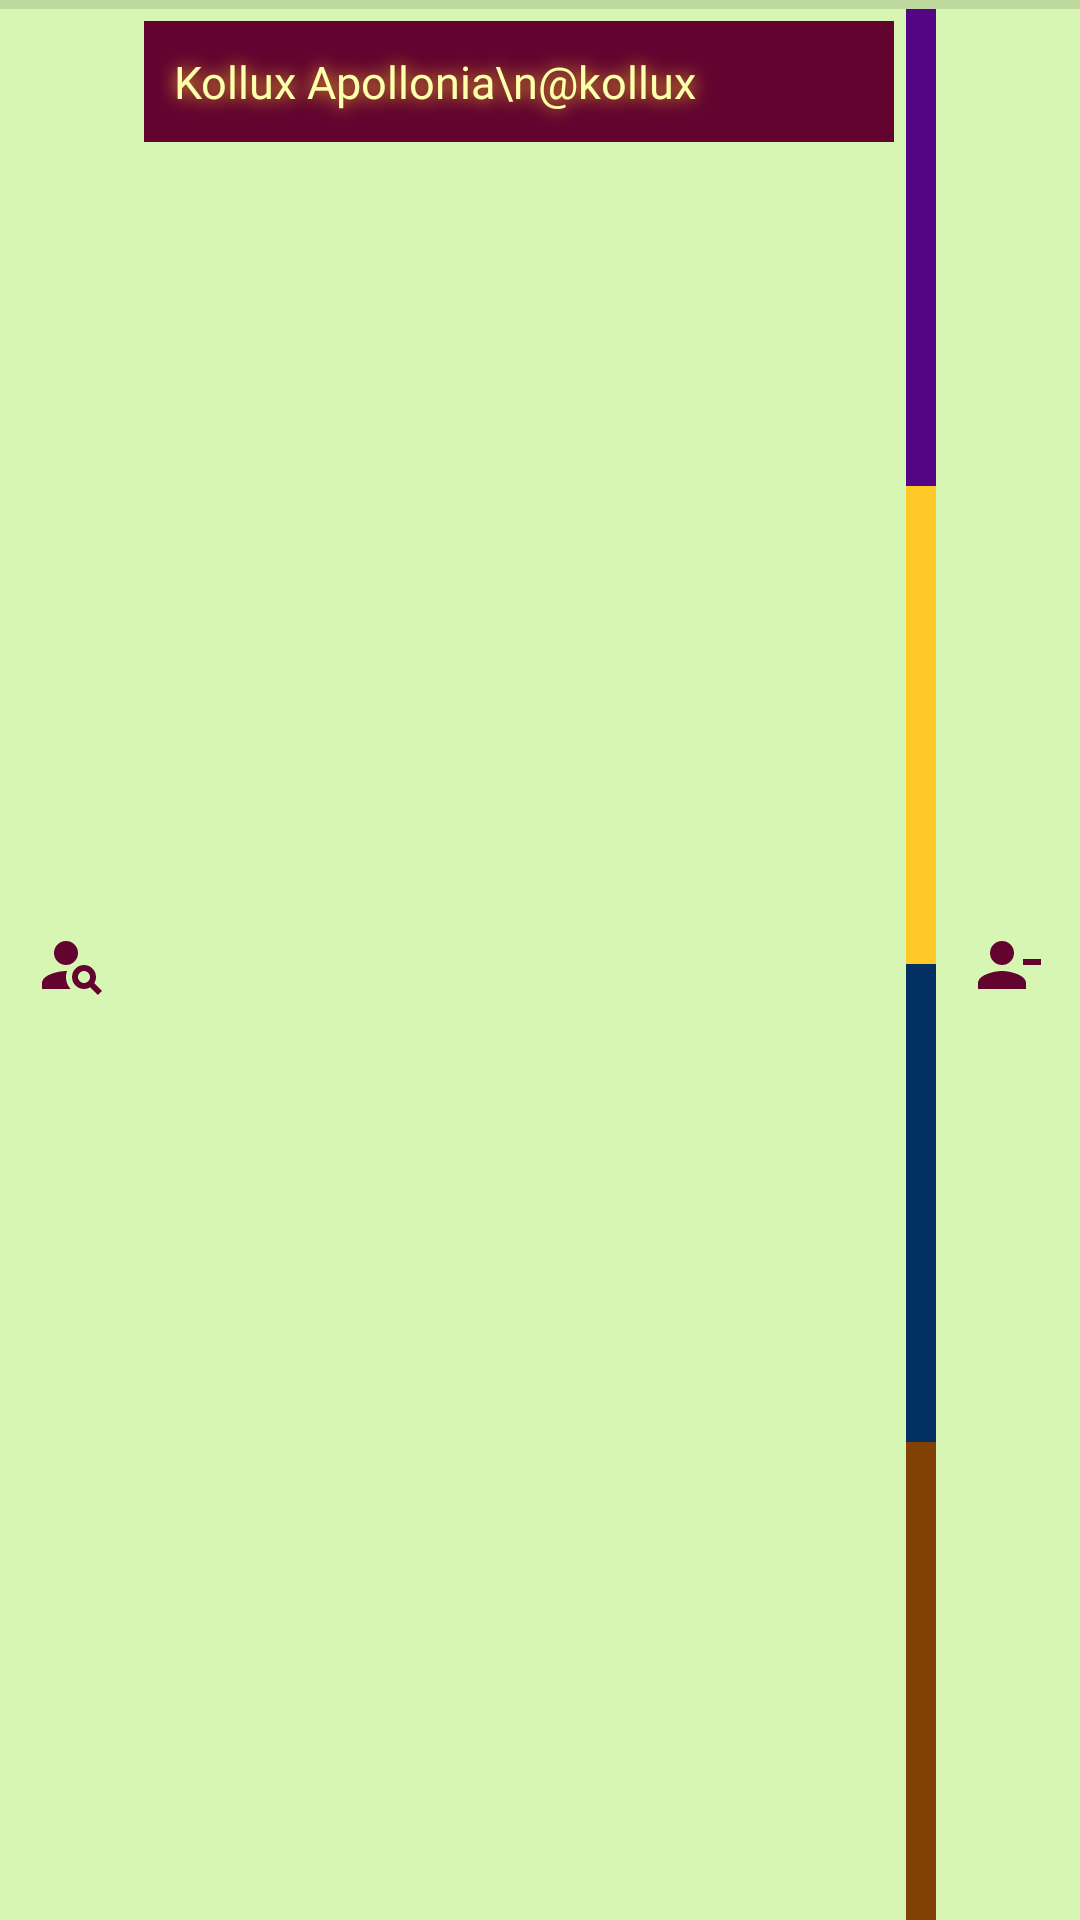

Named icons in this screenshot (1080x1920) and their centers, point (x, y):
view friend: point (72, 968)
